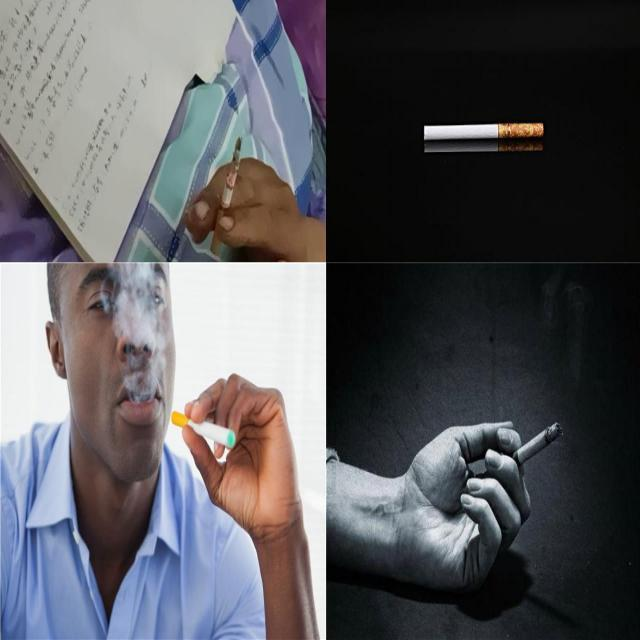cigarette: (210, 138, 242, 257), (498, 422, 564, 478), (171, 410, 236, 450), (423, 122, 547, 141), (424, 140, 544, 154)
